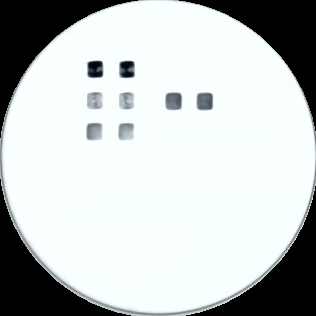检查点: (163, 89, 185, 112), (83, 89, 105, 111), (115, 90, 138, 111), (194, 91, 215, 113), (116, 121, 137, 142), (85, 121, 105, 143), (116, 59, 136, 80), (86, 60, 107, 79)
